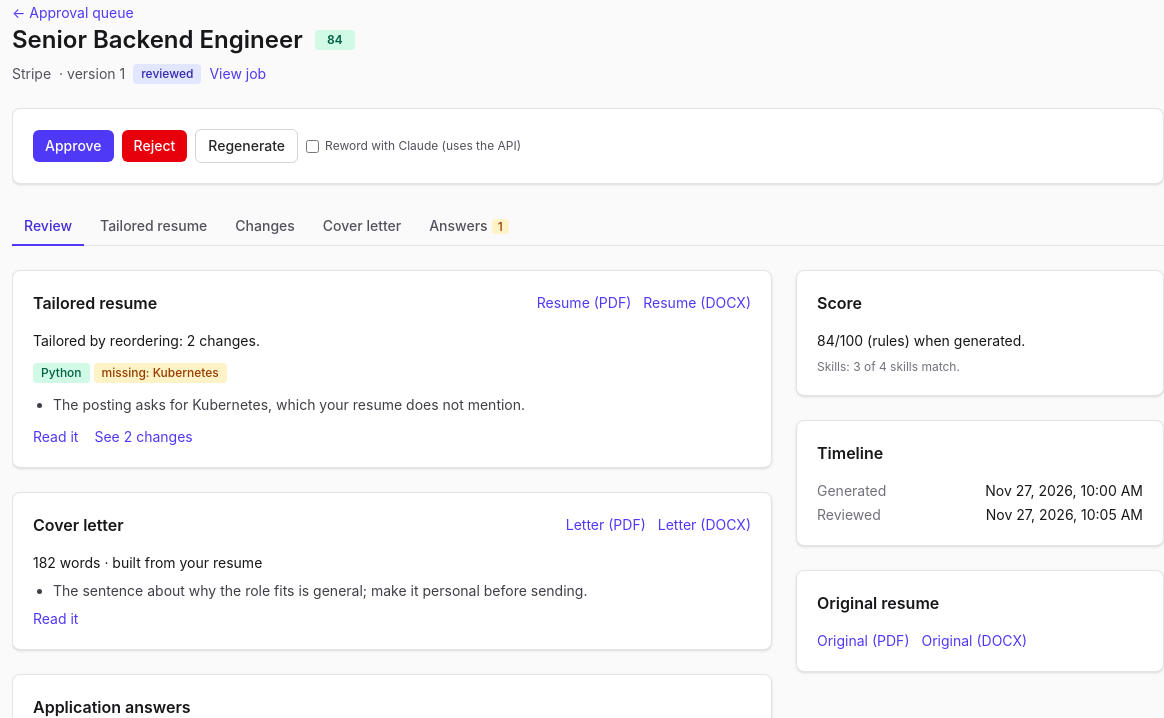
Test case: PackageReview › approves with notes
Click the button "Approve" at (73, 146), box [33,130,114,162]
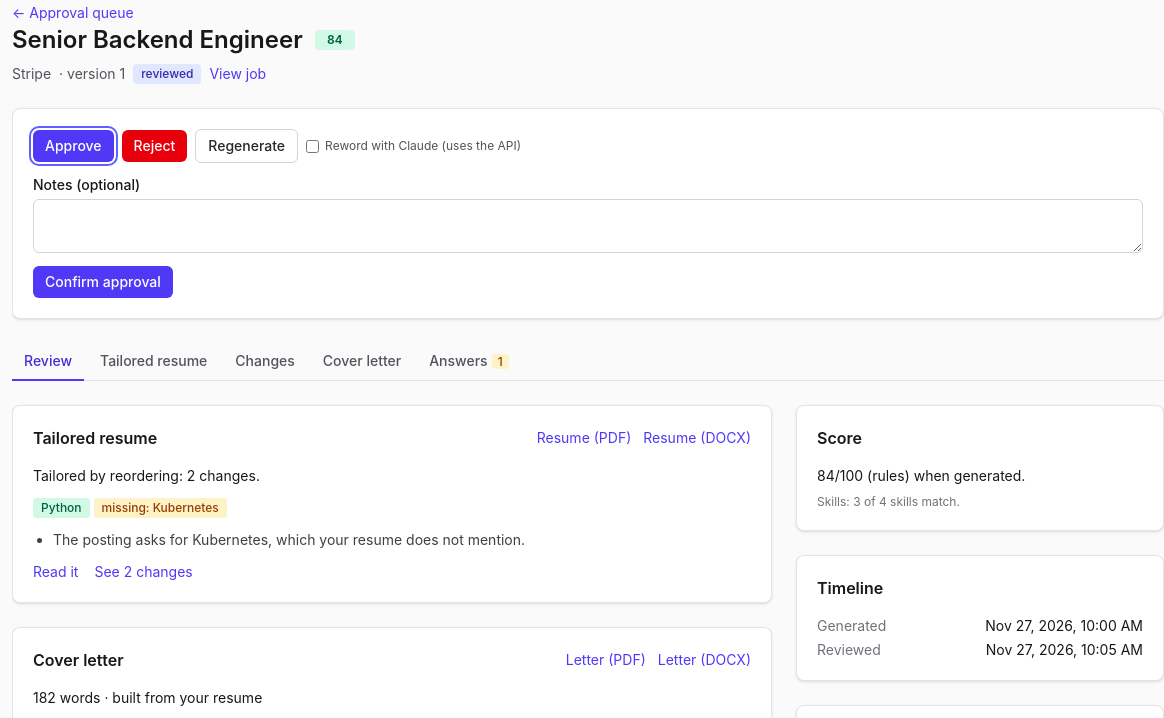
Type "Ready to go" into the text box labelled "Notes (optional)" at (588, 226), box [33,199,1143,253]
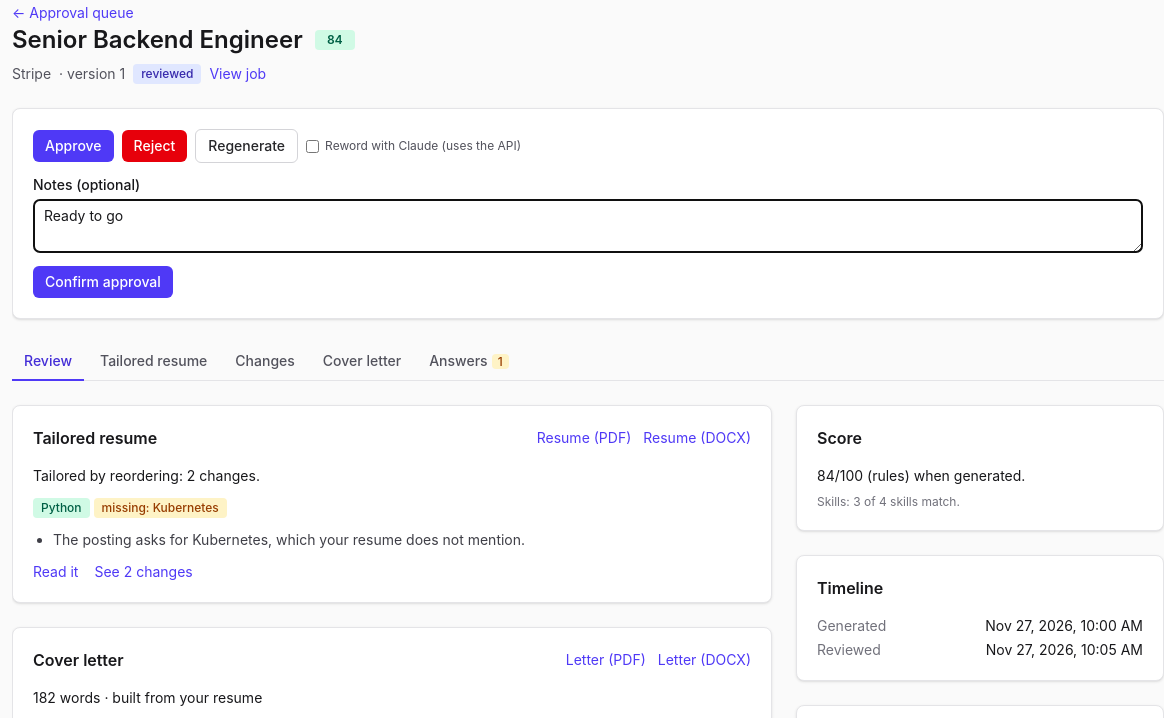
Click the button "Confirm approval" at (103, 282), box [33,266,173,298]
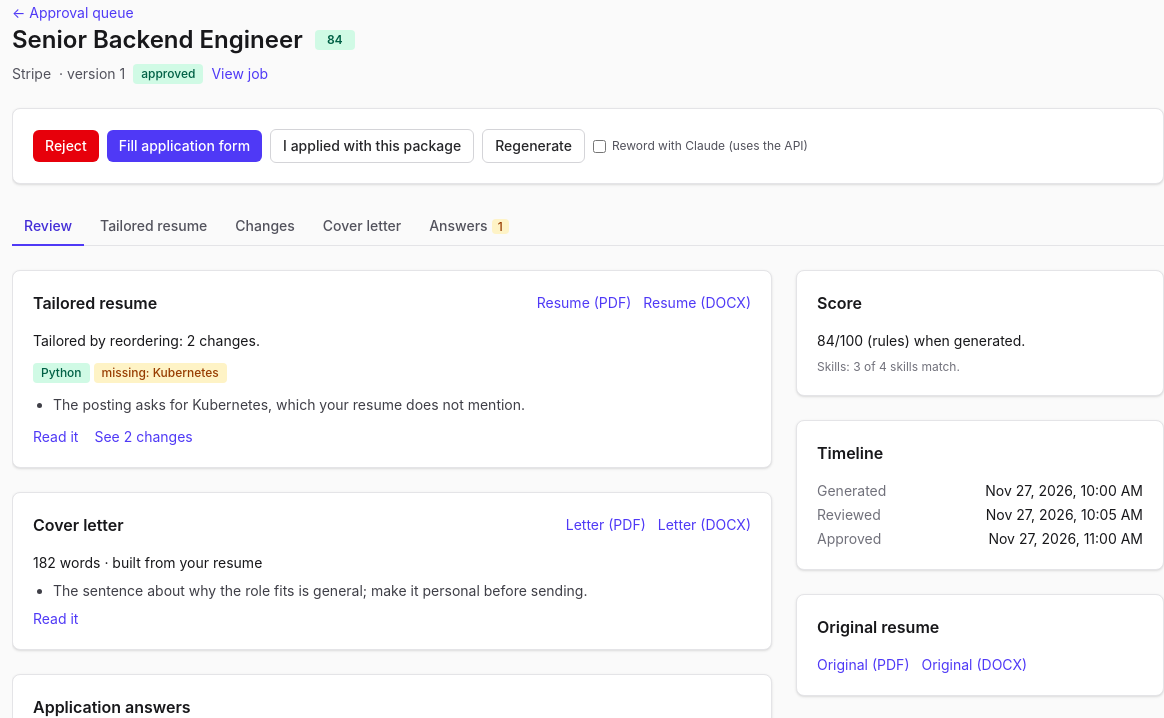
Check: the button "I applied with this package" is shown, box [270,129,474,163]
